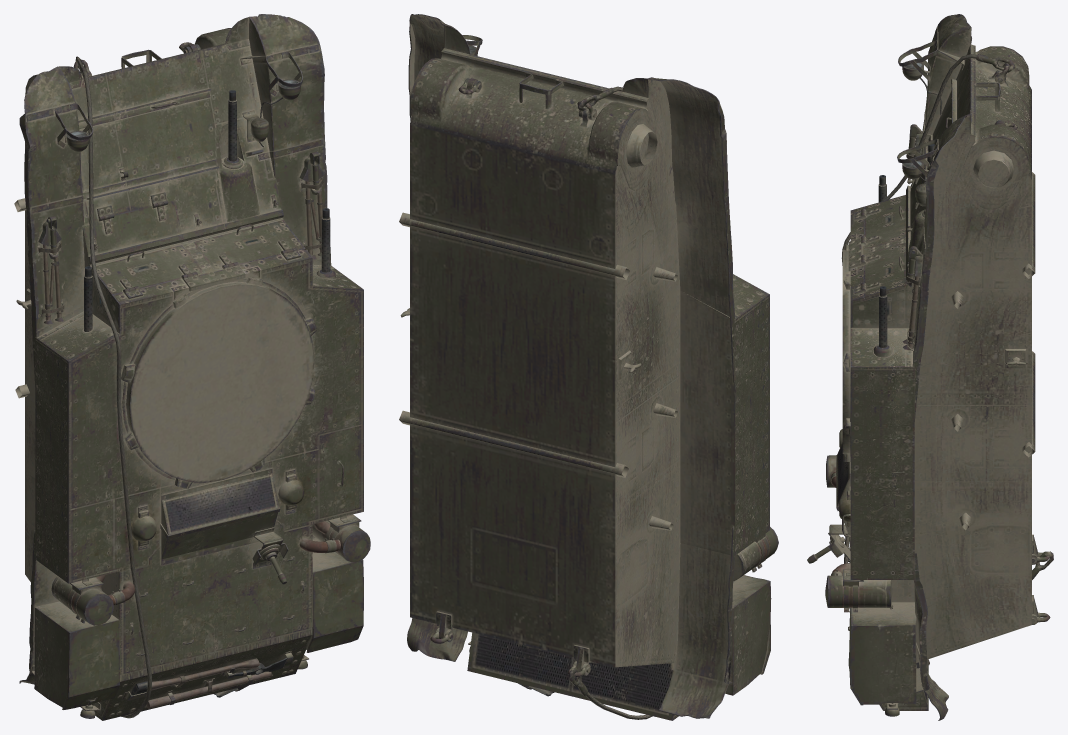
File: Hull.glb
3 views of the same model, side by side, from view 1: azimuth 30°, elevation 25°; view 2: azimuth 150°, elevation 25°; view 3: azimuth 270°, elevation 25° (orthographic). The views are drawn at different scales.
Visible parts, largest first — view 1: set_0_group_0; view 2: set_0_group_0; view 3: set_0_group_0.
Part boxes in pixels (bbox=[...]): set_0_group_0: bbox=[14, 14, 370, 720]; set_0_group_0: bbox=[399, 14, 778, 720]; set_0_group_0: bbox=[807, 14, 1053, 720].
Size of the model in its own units: 2.26 by 4.63 by 1.69.
1 material, 1 textured.
